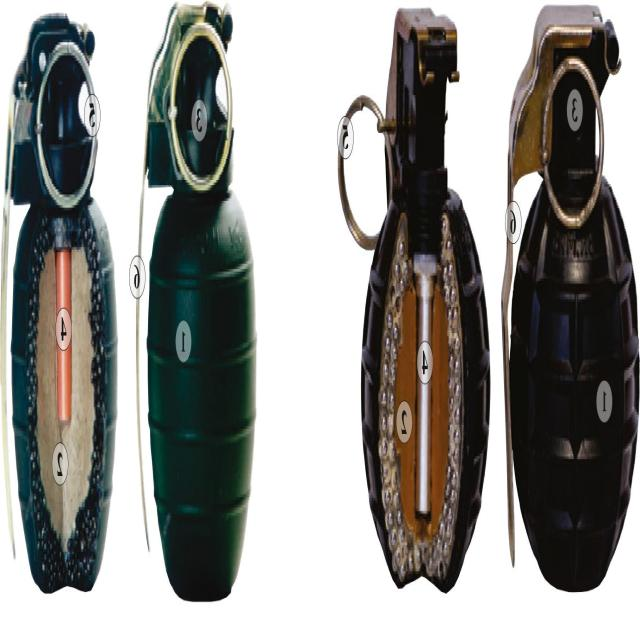grenade: (338, 10, 493, 594), (502, 5, 640, 593), (136, 3, 258, 600), (2, 11, 119, 597)
